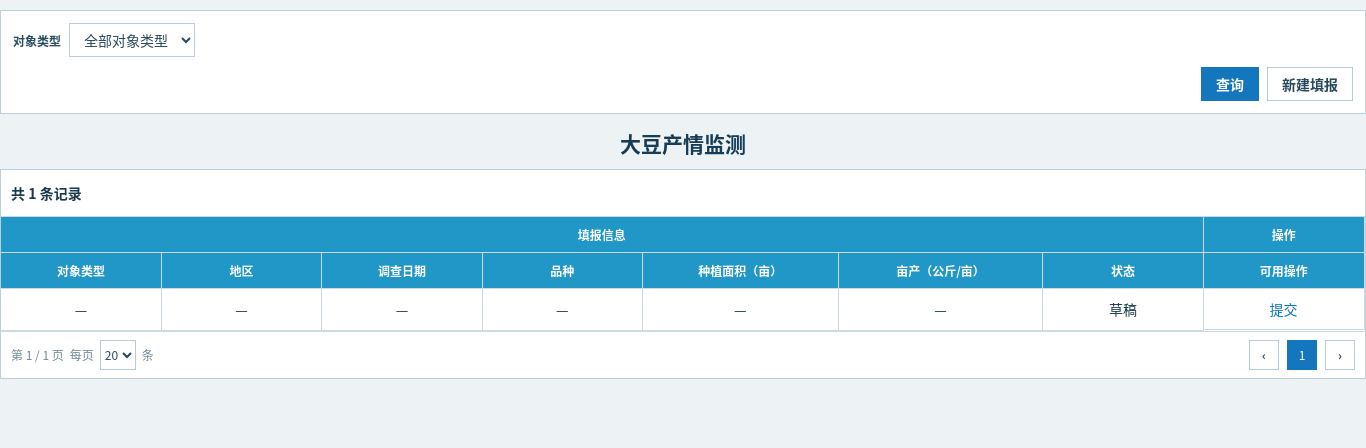
ProductionMonitoringPage › shows a stable action error for AUTHENTICATION
Click the button "提交". click: (1284, 309)
box: [1264, 298, 1304, 320]
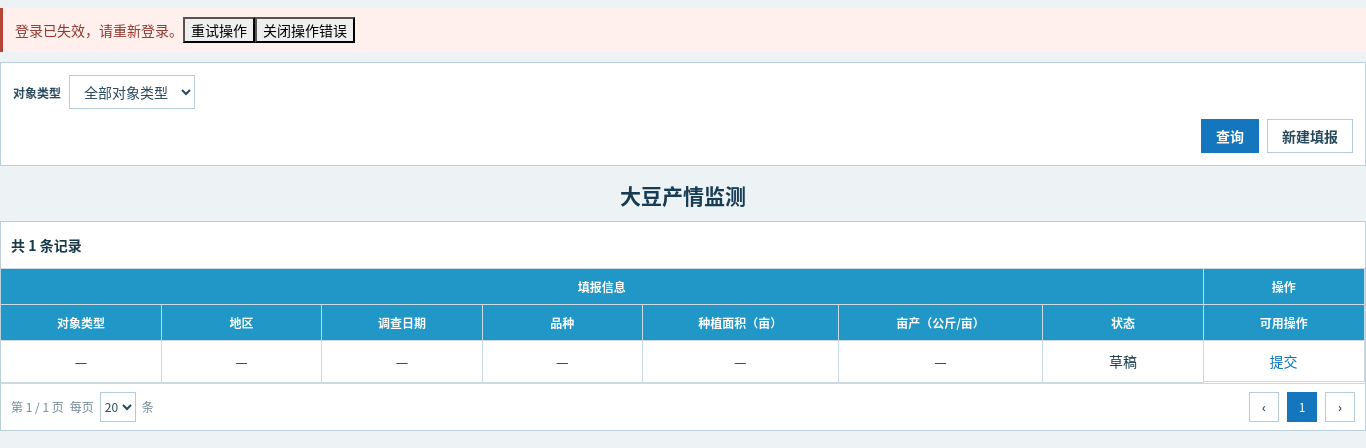
Expected: the message shows "登录已失效，请重新登录。", [15, 20, 183, 40]
Expected: the button "重试操作" is shown, [183, 17, 255, 43]
Expected: the button "关闭操作错误" is shown, [255, 17, 355, 43]
